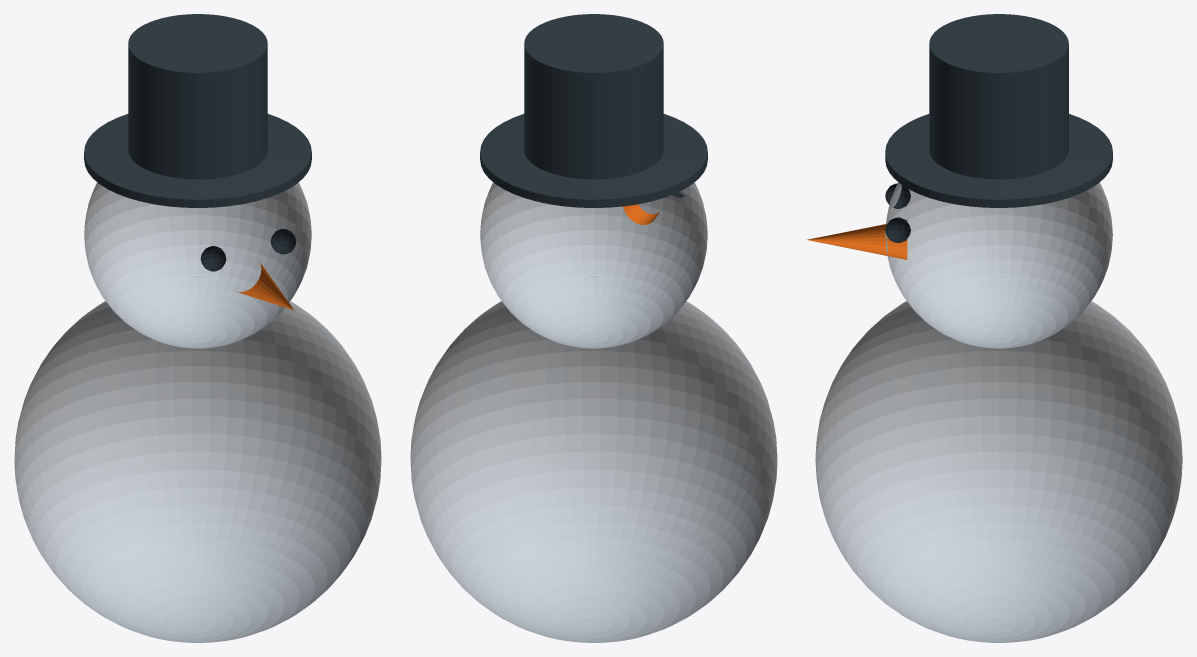
Rendered from snowman.glb.
3 renders of one model, left to right at view 1: azimuth 30°, elevation 25°; view 2: azimuth 150°, elevation 25°; view 3: azimuth 270°, elevation 25°, orthographic.
Bounding box in the file's own units: 2 × 3.5 × 2.05.
